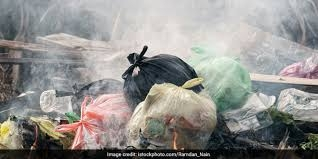plastic: (125, 77, 223, 151), (124, 50, 211, 114), (189, 44, 256, 113), (60, 93, 135, 150)
